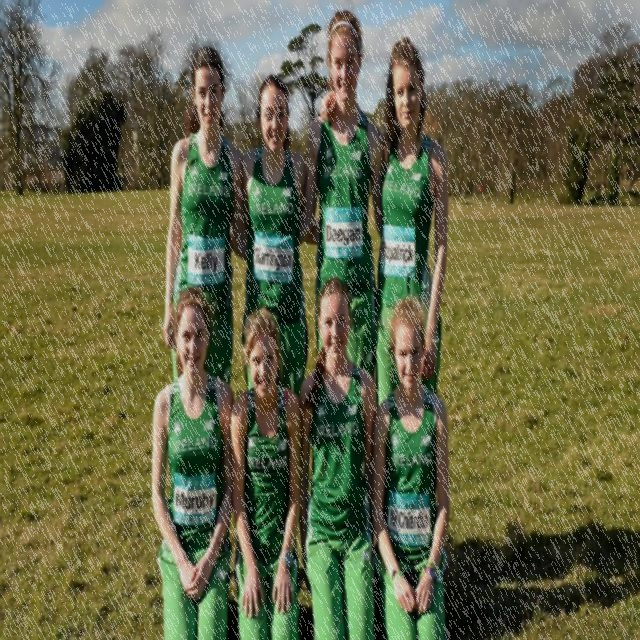pessoa: (318, 35, 450, 412), (296, 6, 386, 407), (148, 280, 236, 639), (294, 272, 379, 638), (366, 291, 453, 639), (228, 73, 321, 398), (160, 44, 244, 386), (226, 301, 304, 639), (447, 516, 639, 639), (459, 172, 537, 202), (595, 180, 609, 211)
